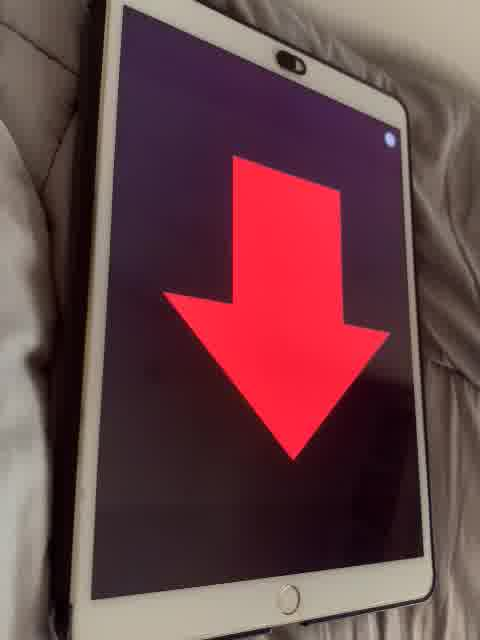down: (154, 150, 391, 469)
